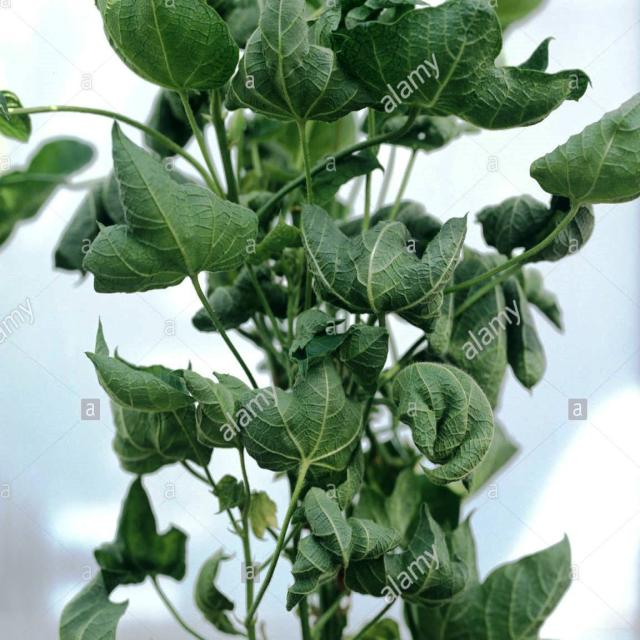Leaf Curl Virus: (100, 27, 458, 583)
